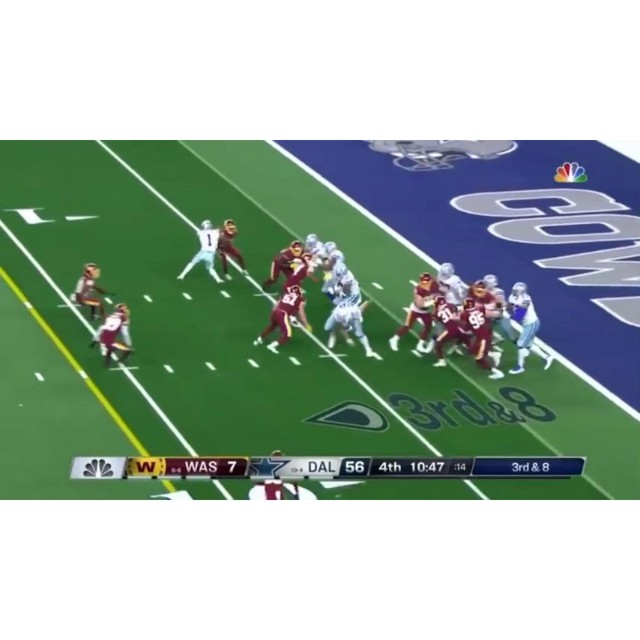american-football-player: (505, 281, 552, 376), (389, 272, 439, 354), (324, 298, 382, 360), (254, 283, 306, 352), (461, 297, 503, 378), (178, 219, 226, 284), (429, 295, 471, 369), (90, 304, 132, 368), (70, 262, 111, 321), (261, 240, 304, 291), (217, 219, 249, 280), (438, 262, 470, 308)
